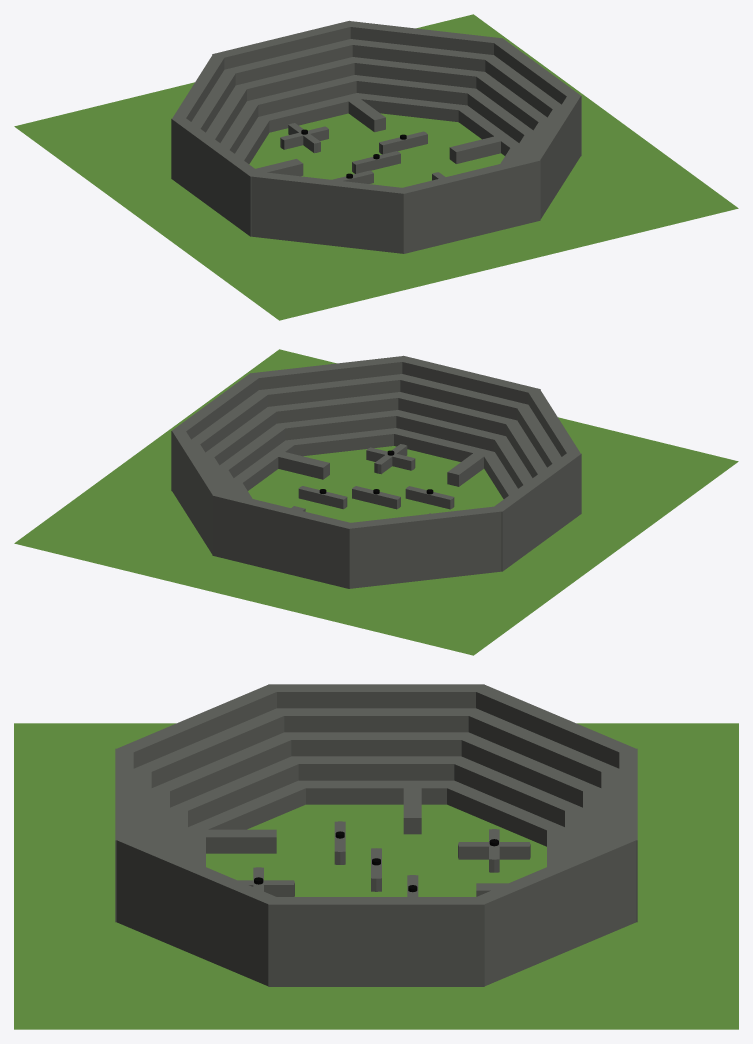
The model's file is Arena 3.fbx.
3 renders of one model, top to bottom at view 1: azimuth 30°, elevation 25°; view 2: azimuth 150°, elevation 25°; view 3: azimuth 270°, elevation 25°, orthographic. The views are drawn at different scales.
Parts seen in each view (by area): view 1: Plane, Cube__15__3, Cube__11__3, Cube__17__3, Cube__10__3, Cube__14__3, Cube__14__2, Cube__16__3, Cube__14__1, Cube__16__2, Cube__16__1, Cube__14_ (+19 smaller); view 2: Plane, Cube__13__3, Cube__16__3, Cube__17__3, Cube__14__3, Cube__10__3, Cube__10__2, Cube__11__3, Cube__10__1, Cube__11__2, Cube__11__1, Cube__10_ (+19 smaller); view 3: Plane, Cube__12__3, Cube__10__3, Cube__14__3, Cube__17__3, Cube__17__2, Cube__17__1, Cube__13__3, Cube__15__3, Cube__17_, Cube__13__2, Cube__15__2 (+21 smaller).
Boxes of the visible parts, x1,y1,x2,y2 form: Plane: [14, 14, 738, 320]; Cube__15__3: [251, 171, 405, 253]; Cube__11__3: [397, 155, 540, 253]; Cube__17__3: [171, 118, 258, 236]; Cube__10__3: [528, 96, 580, 218]; Cube__14__3: [346, 21, 500, 54]; Cube__14__2: [348, 39, 492, 71]; Cube__16__3: [212, 20, 353, 69]; Cube__14__1: [350, 57, 483, 88]; Cube__16__2: [224, 39, 354, 85]; Cube__16__1: [236, 57, 359, 100]; Cube__14_: [351, 75, 474, 105]; Plane: [14, 349, 738, 655]; Cube__13__3: [346, 506, 501, 588]; Cube__16__3: [212, 490, 354, 588]; Cube__17__3: [494, 453, 581, 571]; Cube__14__3: [172, 431, 223, 553]; Cube__10__3: [251, 356, 406, 389]; Cube__10__2: [259, 374, 404, 406]; Cube__11__3: [399, 355, 540, 404]; Cube__10__1: [269, 392, 402, 423]; Cube__11__2: [396, 374, 528, 420]; Cube__11__1: [394, 392, 517, 435]; Cube__10_: [277, 410, 401, 440]; Plane: [14, 723, 738, 1029]; Cube__12__3: [268, 897, 484, 986]; Cube__10__3: [116, 834, 281, 985]; Cube__14__3: [476, 834, 636, 985]; Cube__17__3: [268, 684, 484, 708]; Cube__17__2: [276, 708, 476, 732]; Cube__17__1: [283, 732, 469, 756]; Cube__13__3: [471, 684, 635, 768]; Cube__15__3: [117, 684, 281, 768]; Cube__17_: [290, 756, 462, 780]; Cube__13__2: [465, 708, 618, 787]; Cube__15__2: [135, 708, 288, 787].
Size of the model in its own units: 40000 by 5000 by 40000.
